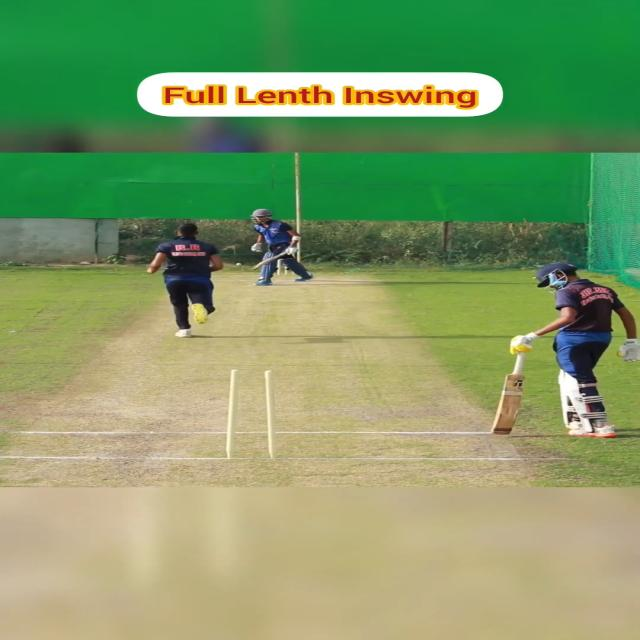stump: (224, 368, 281, 458)
